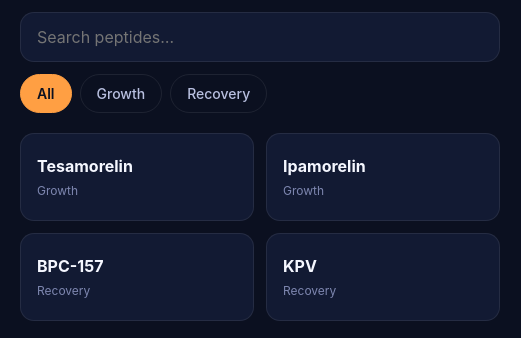
PeptidesTab › filters the grid as the user types in search
Type "morning" into the search field labelled "Search peptides" at {"x": 260, "y": 37}, box [20,12,500,62]
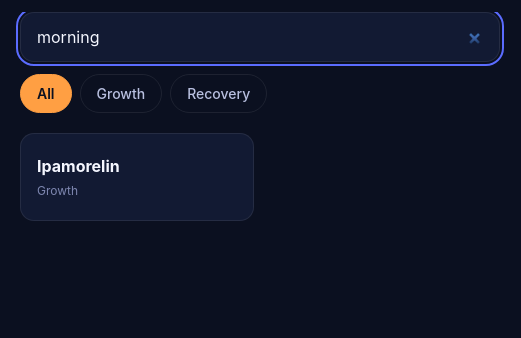
Expected: the list item shows "Ipamorelin", [20,133,254,221]
Expected: the number of list items is 1, [20,133,254,221]
